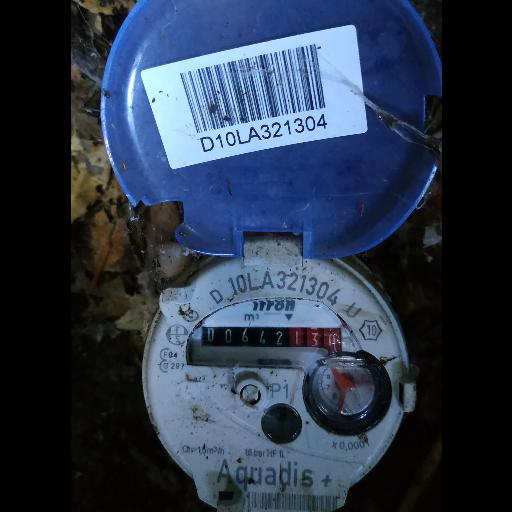0: (202, 326, 218, 346), (218, 326, 234, 346)
1: (290, 327, 305, 347)
2: (324, 327, 343, 353), (271, 327, 290, 347)
3: (306, 327, 322, 348)
4: (252, 327, 270, 347)
6: (234, 326, 252, 346)
border_water_meter_number: (199, 323, 346, 354)
